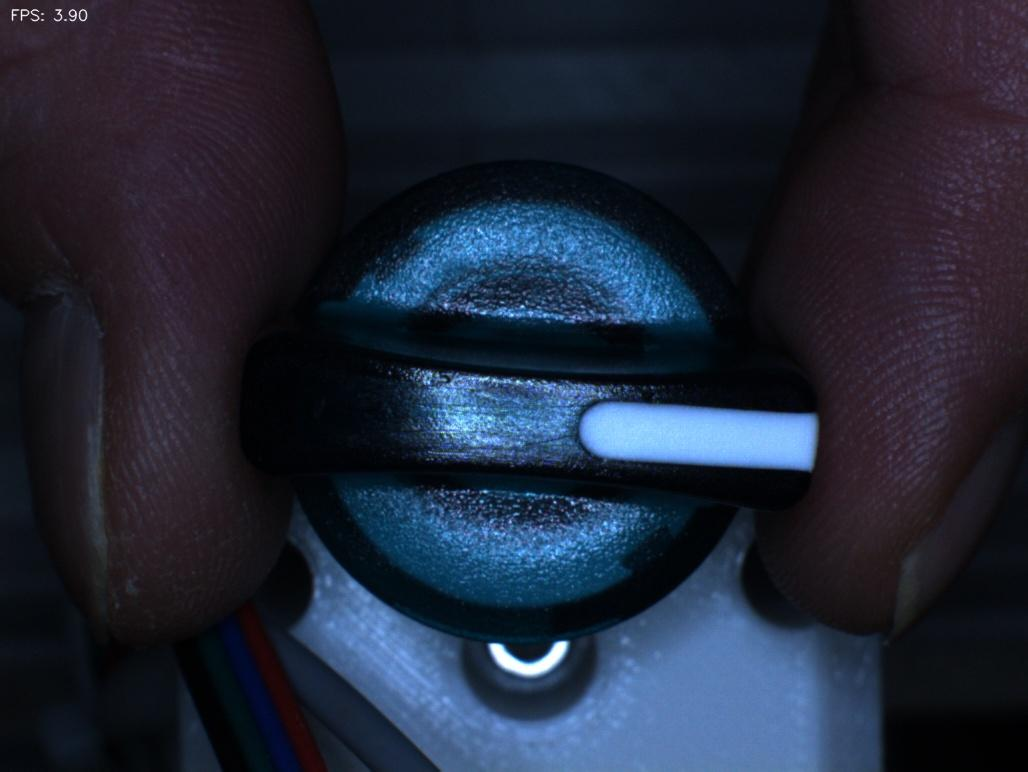Choc: (618, 363, 678, 434)
